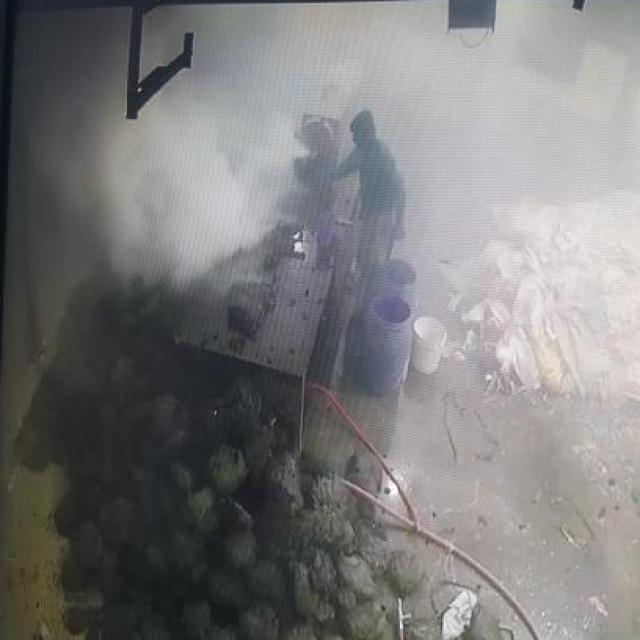fire: (91, 72, 276, 301)
